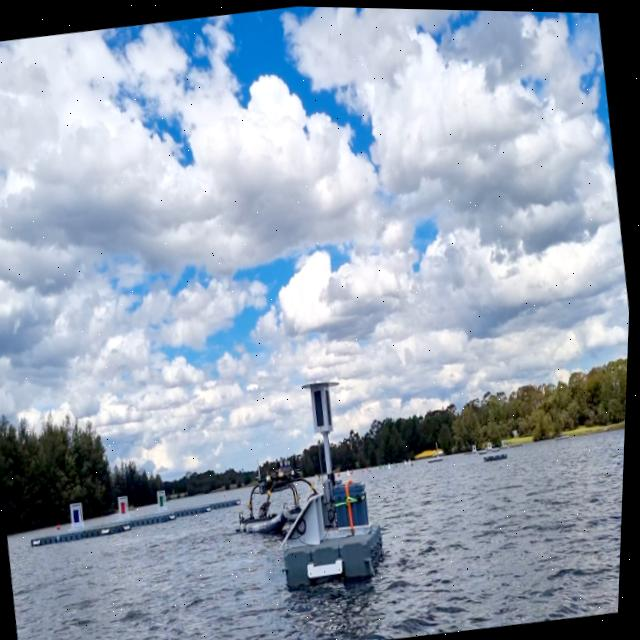led: (314, 385, 332, 429)
